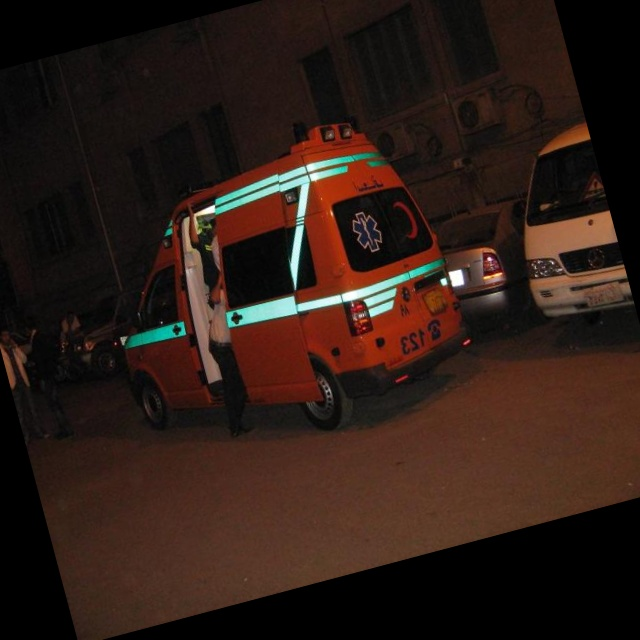Ambulance: (74, 92, 487, 479)
car: (431, 194, 559, 344)
